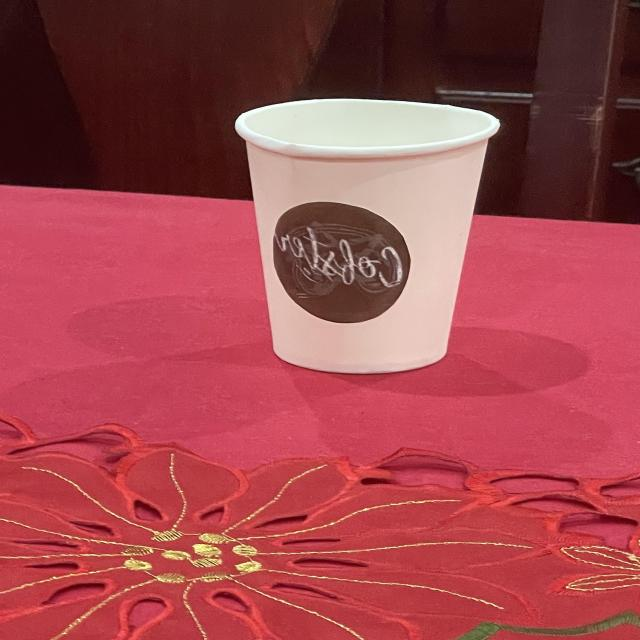medium: (213, 92, 507, 381)
